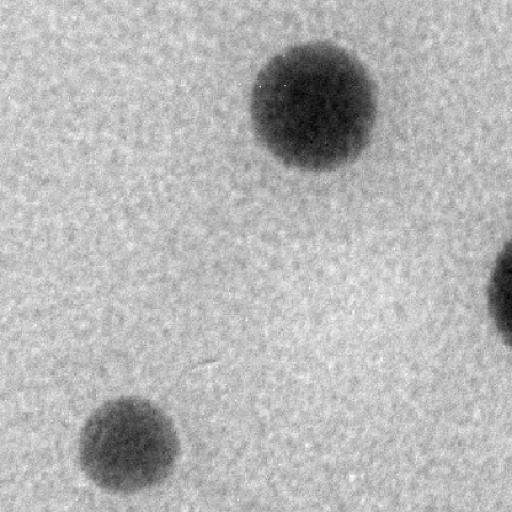Nanoparticles: (250, 37, 381, 174), (79, 394, 182, 496), (487, 241, 512, 339)
